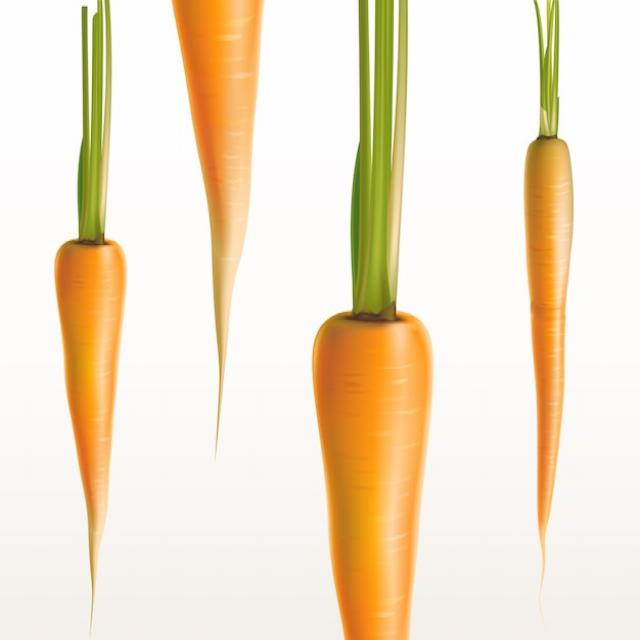Carrot: (312, 0, 433, 640), (57, 3, 130, 604), (167, 0, 258, 460), (524, 0, 576, 593)
